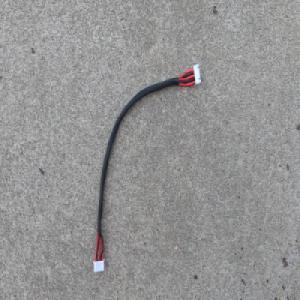Wire: (92, 61, 202, 276)
